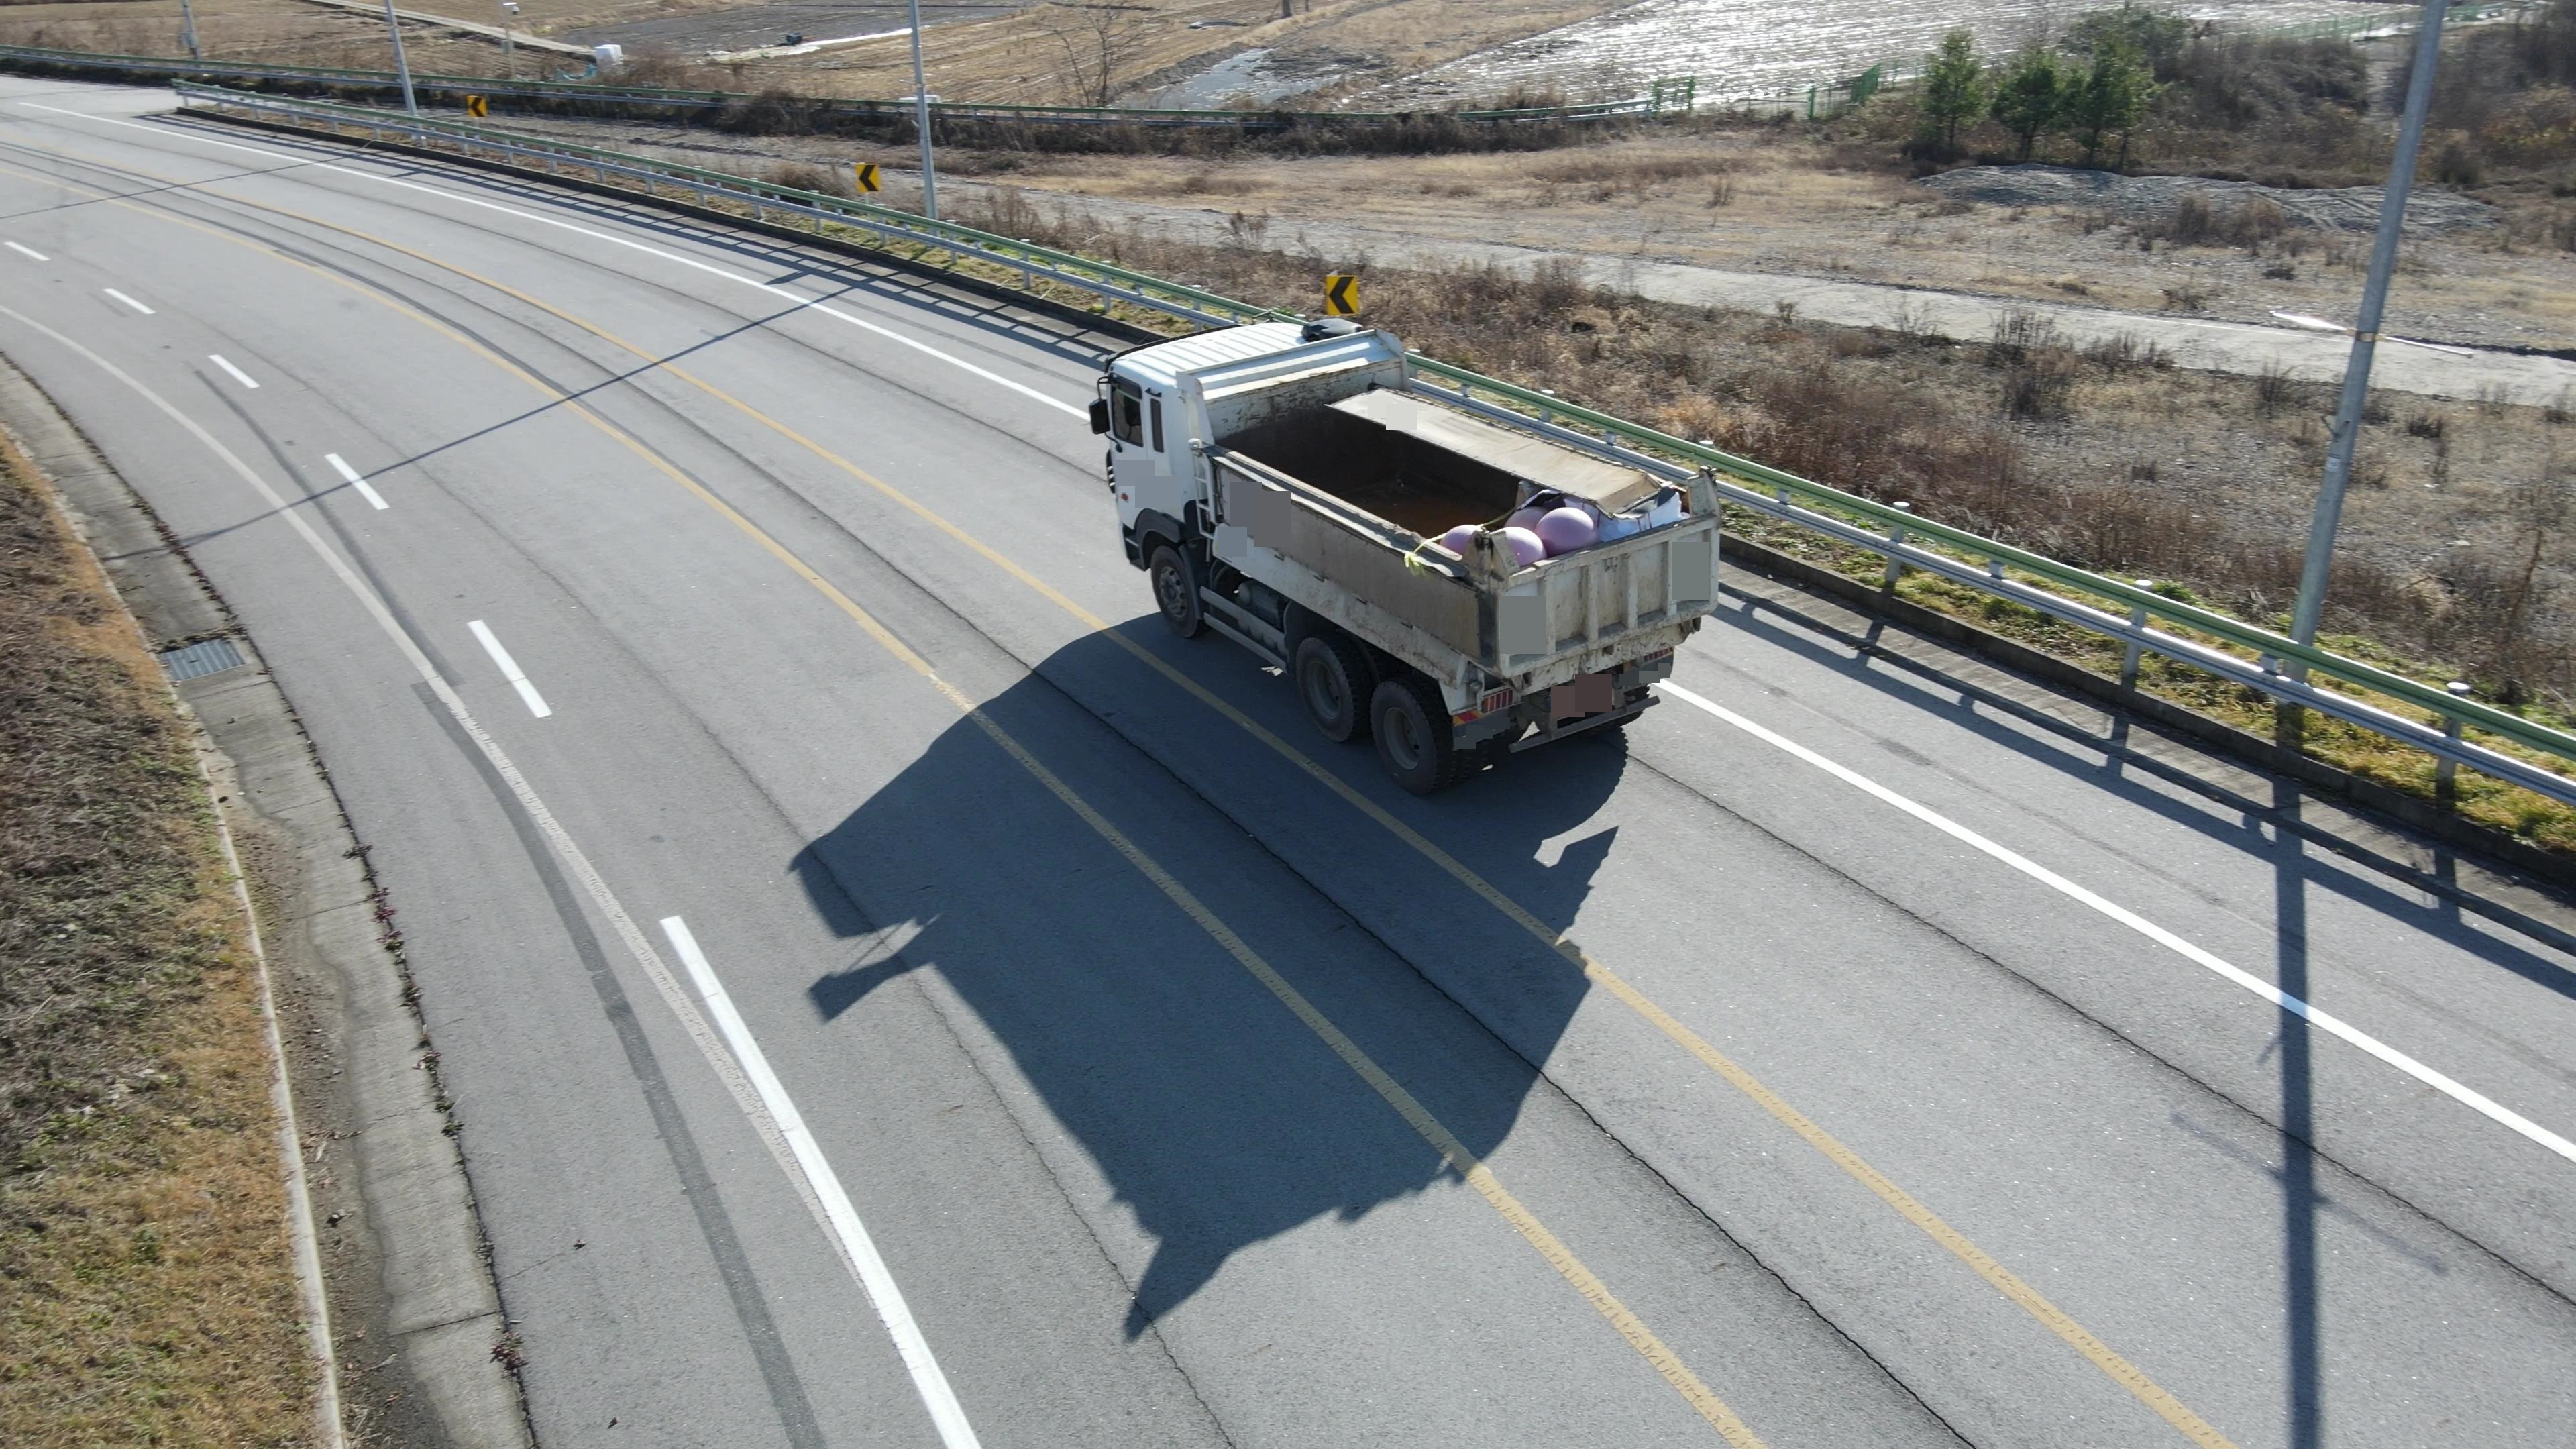불법차량: (1090, 317, 1721, 801)
